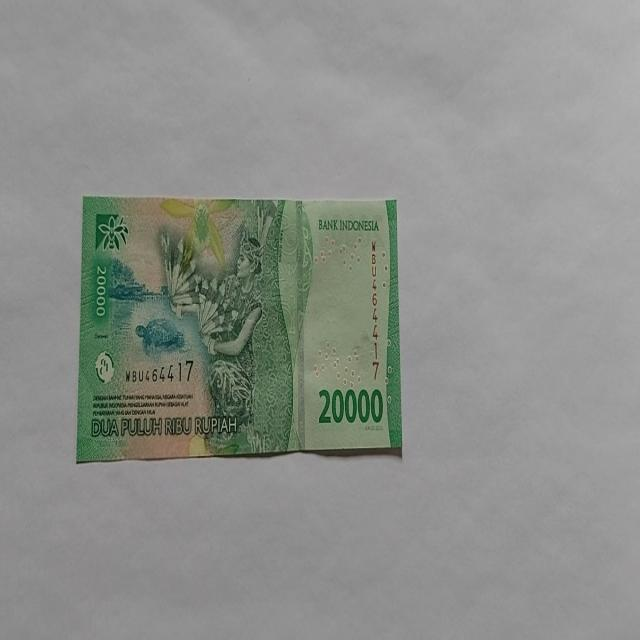dua puluh ribu rupiah: (76, 195, 402, 462)
